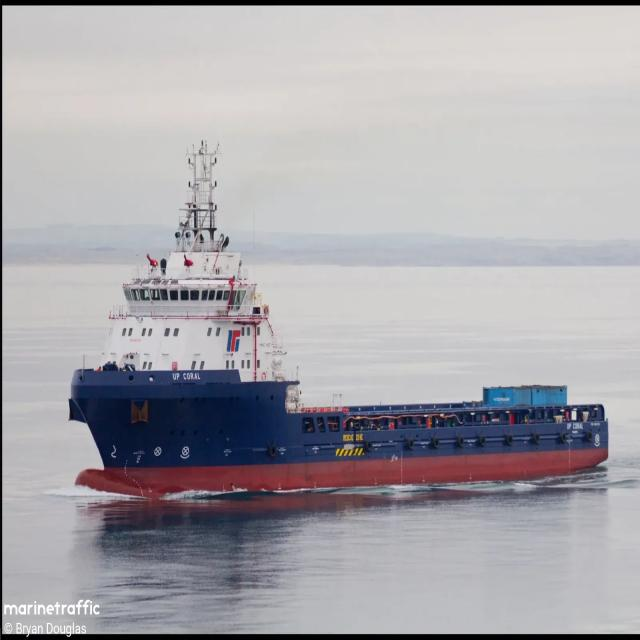Offshore: (68, 141, 608, 498)
